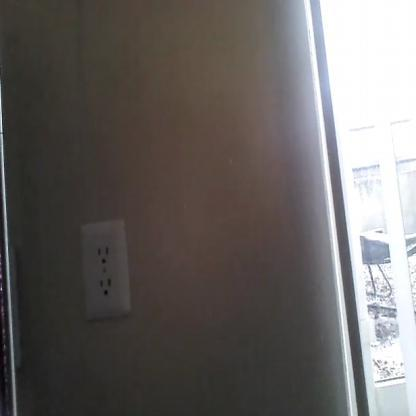OUTLET: (86, 224, 130, 316)
